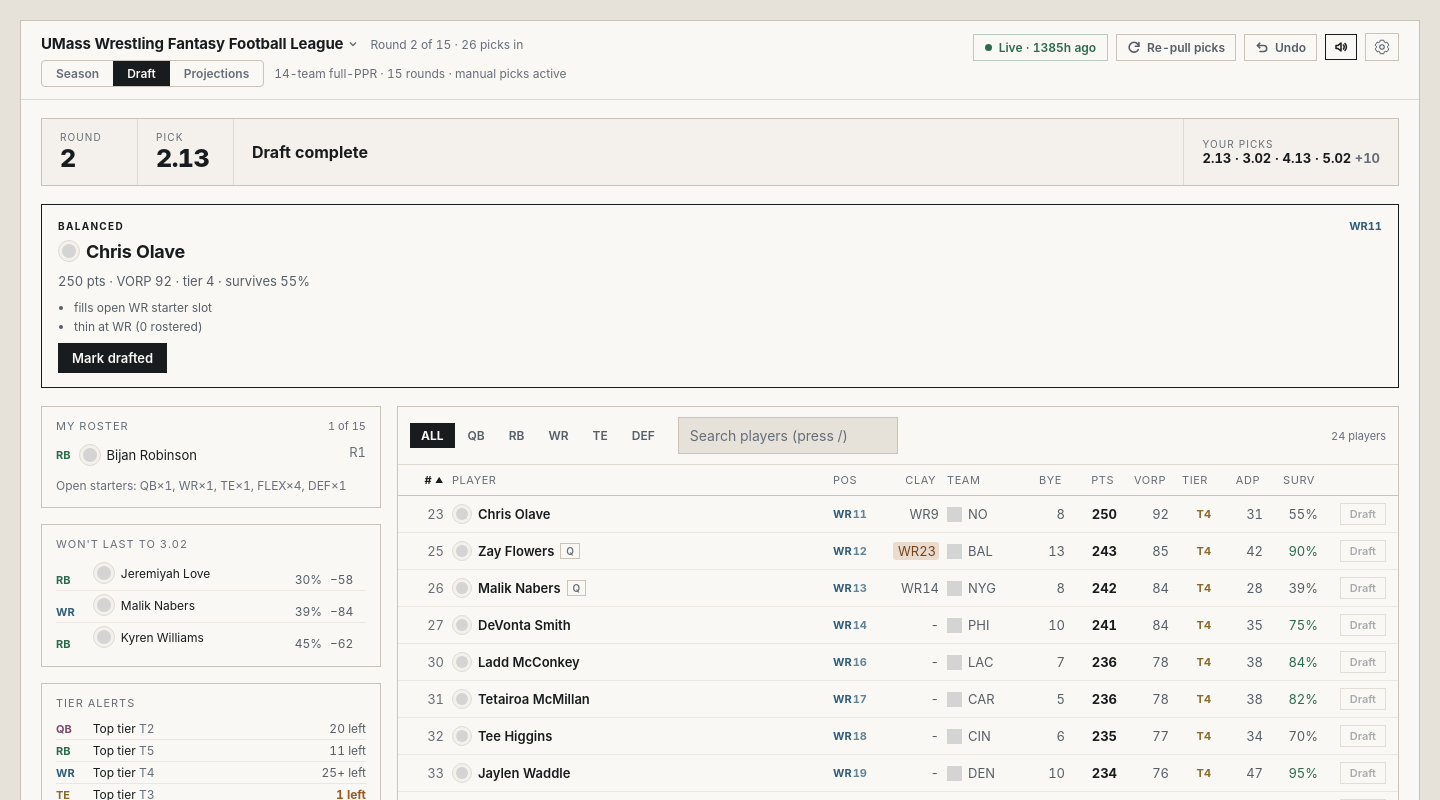
Test: once the draft is complete › records nothing and undoes nothing
This screenshot has width=1440, height=800.
Expected: the heading "UMass Wrestling Fantasy Football League" is shown, [41,33,358,54]
Expected: the button "Draft" next to "90%" is disabled, [1340,540,1386,562]
What coordinates should you click on to do the following:
click the button "Draft" in the row of "NO"
I would click on:
 (1363, 514)
Its box is [1340,503,1386,525].
(page scrolled)
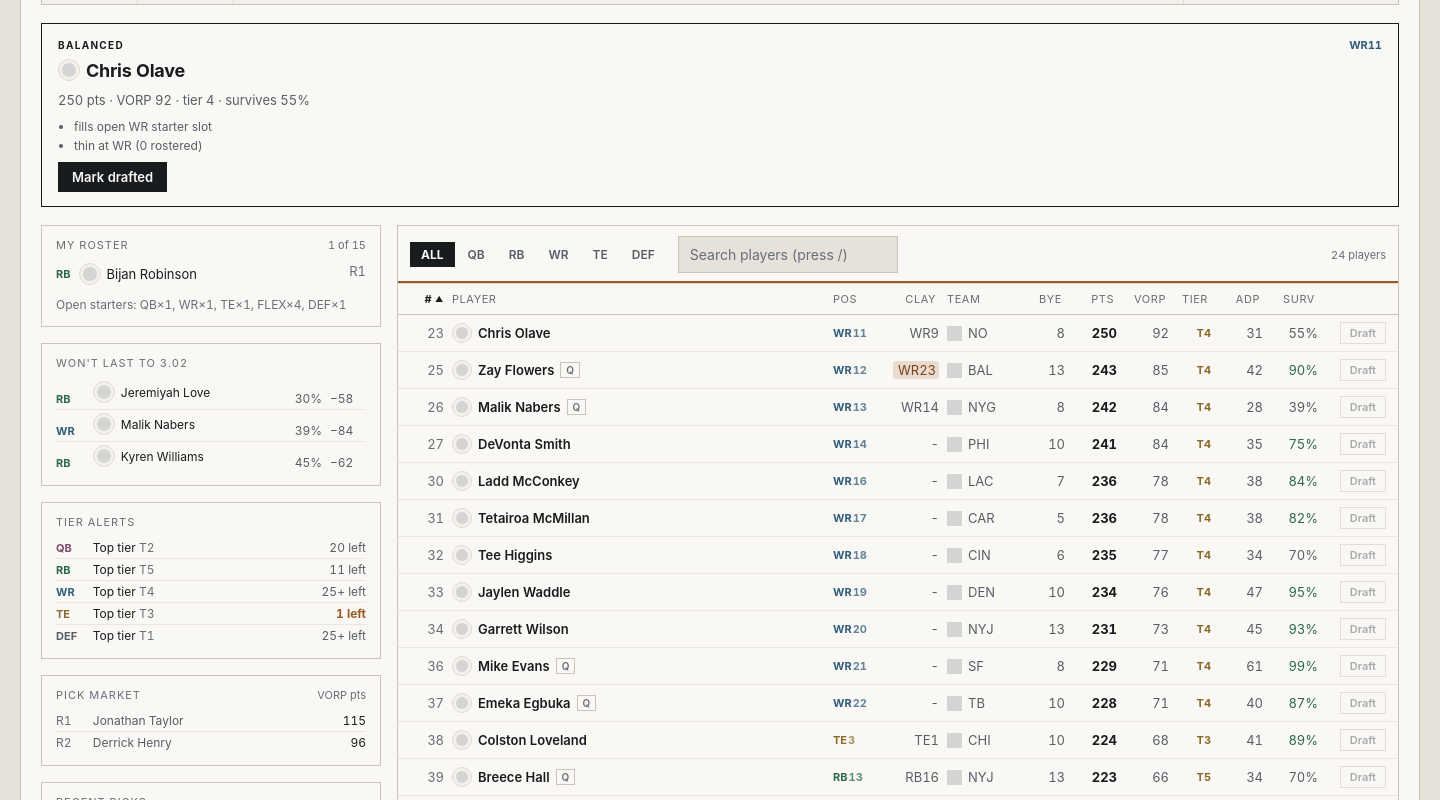
What coordinates should you click on to do the following:
click the button "Mark drafted"
I would click on:
 (113, 177)
Its box is [58,162,167,192].
(page scrolled)
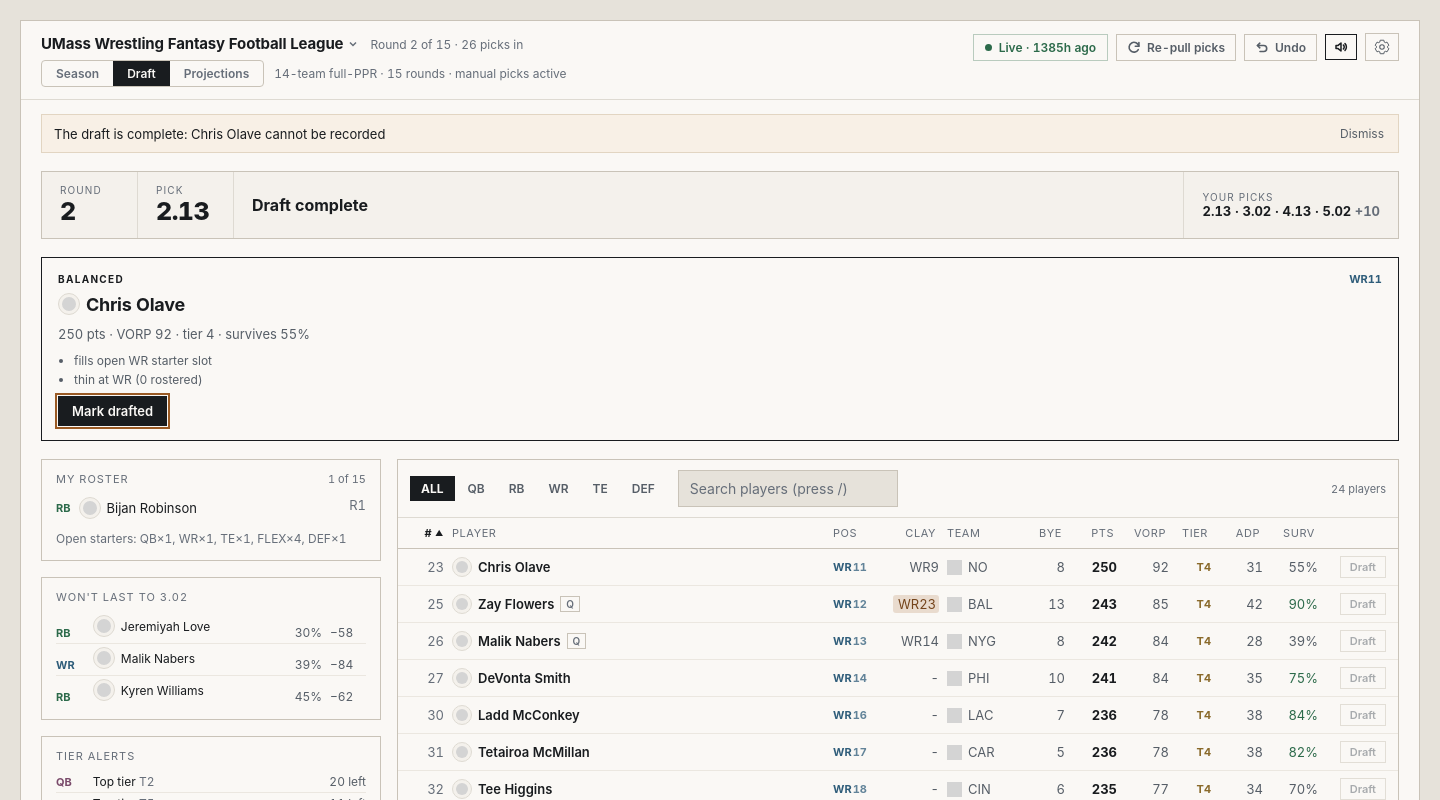
Expected: the text "The draft is complete: Chris Olave cannot be recorded" is shown, [54,126,385,142]
# The header's Undo.
What coordinates should you click on to do the following:
click the button "Undo"
I would click on:
 (1280, 47)
Its box is [1244,34,1317,60].
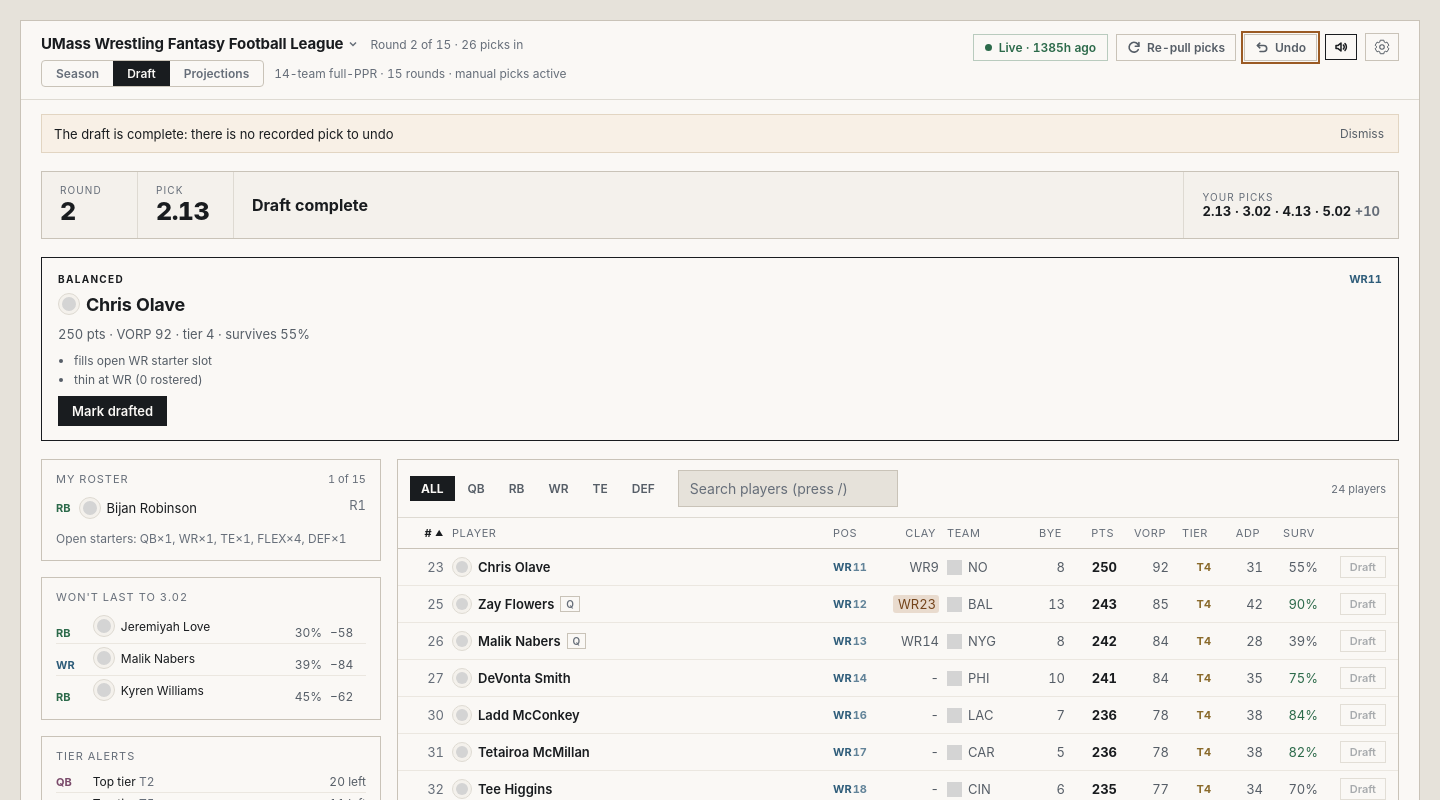
Expected: the text "The draft is complete: there is no recorded pick to undo" is shown, [54,126,394,142]
